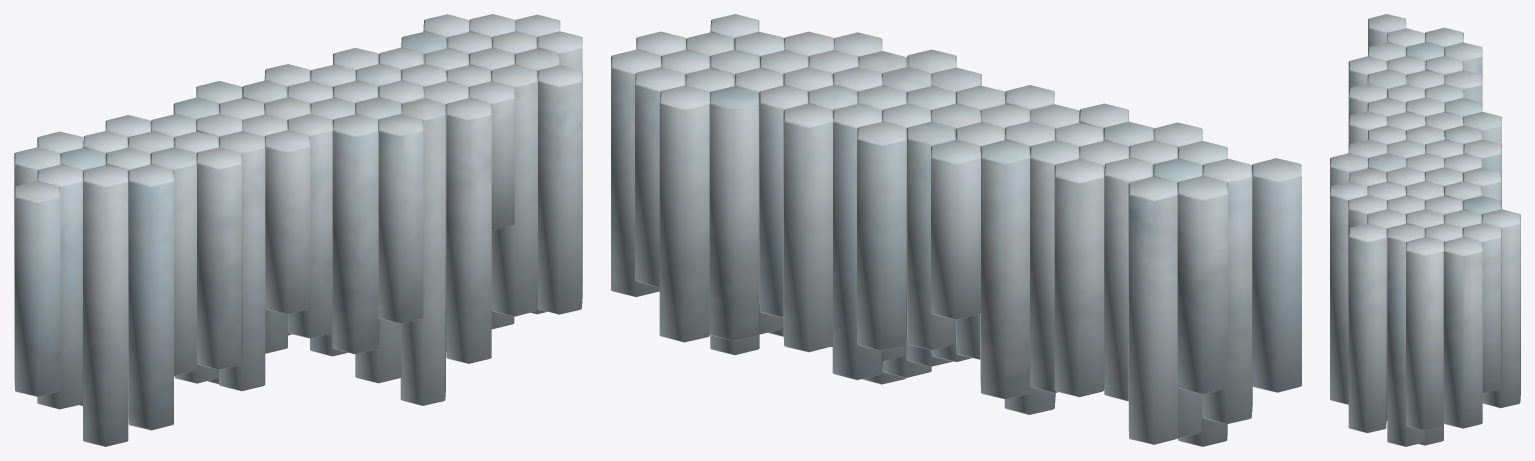
The model's file is P_RockHexic_Platform04.obj.
The picture shows the model from 3 angles, left to right: view 1: azimuth 30°, elevation 25°; view 2: azimuth 150°, elevation 25°; view 3: azimuth 270°, elevation 25°; orthographic projection. The views are drawn at different scales.
Size of the model in its own units: 50.51 by 23.59 by 16.83.
